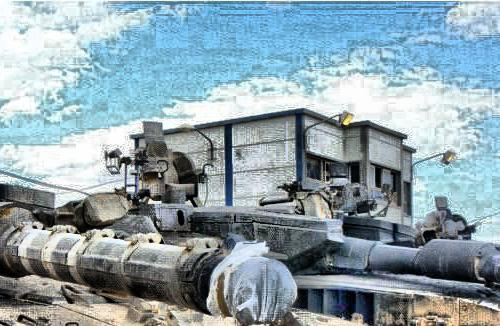tanks: (1, 189, 348, 326)
